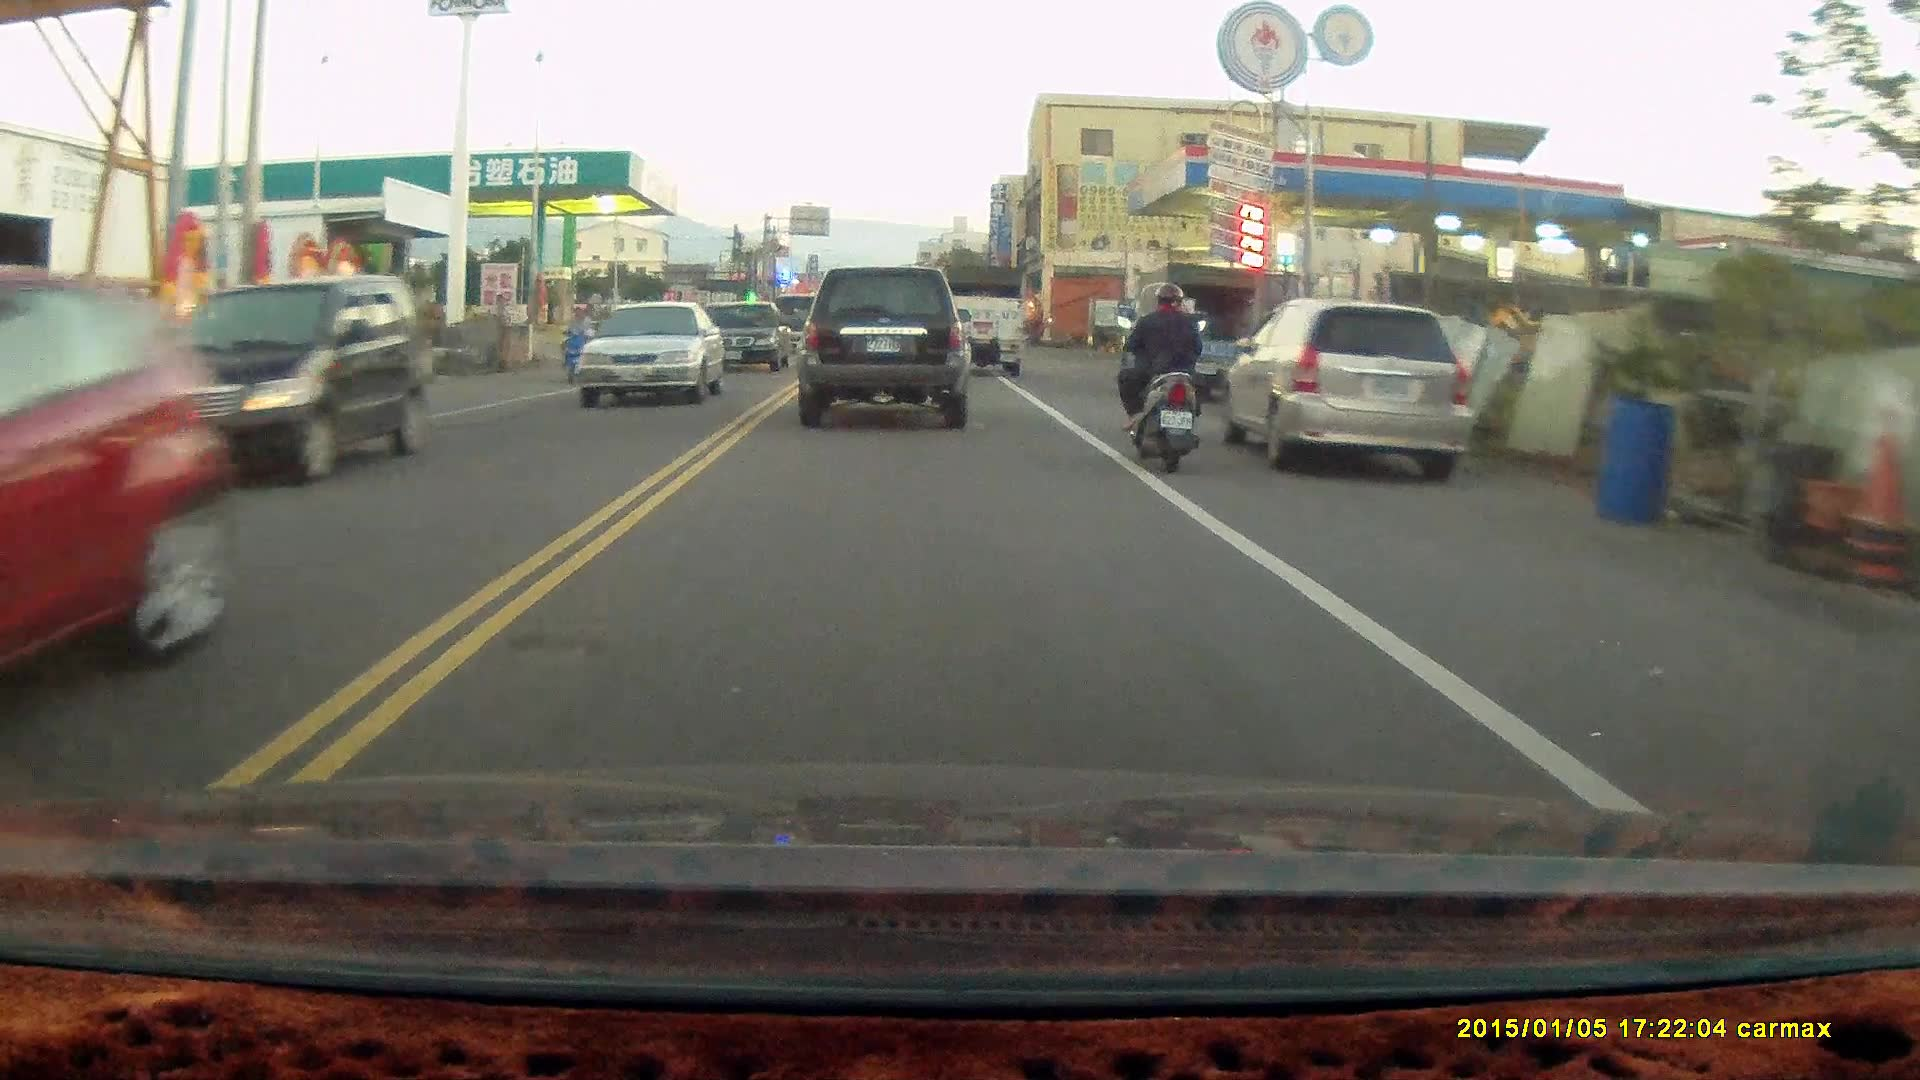rider: (1111, 279, 1208, 469), (555, 299, 604, 385)
vehicle: (1, 274, 236, 737), (99, 274, 435, 491), (1228, 295, 1475, 483), (794, 266, 972, 430), (1116, 258, 1261, 393), (573, 298, 728, 405), (938, 260, 1024, 376), (705, 297, 793, 370)
